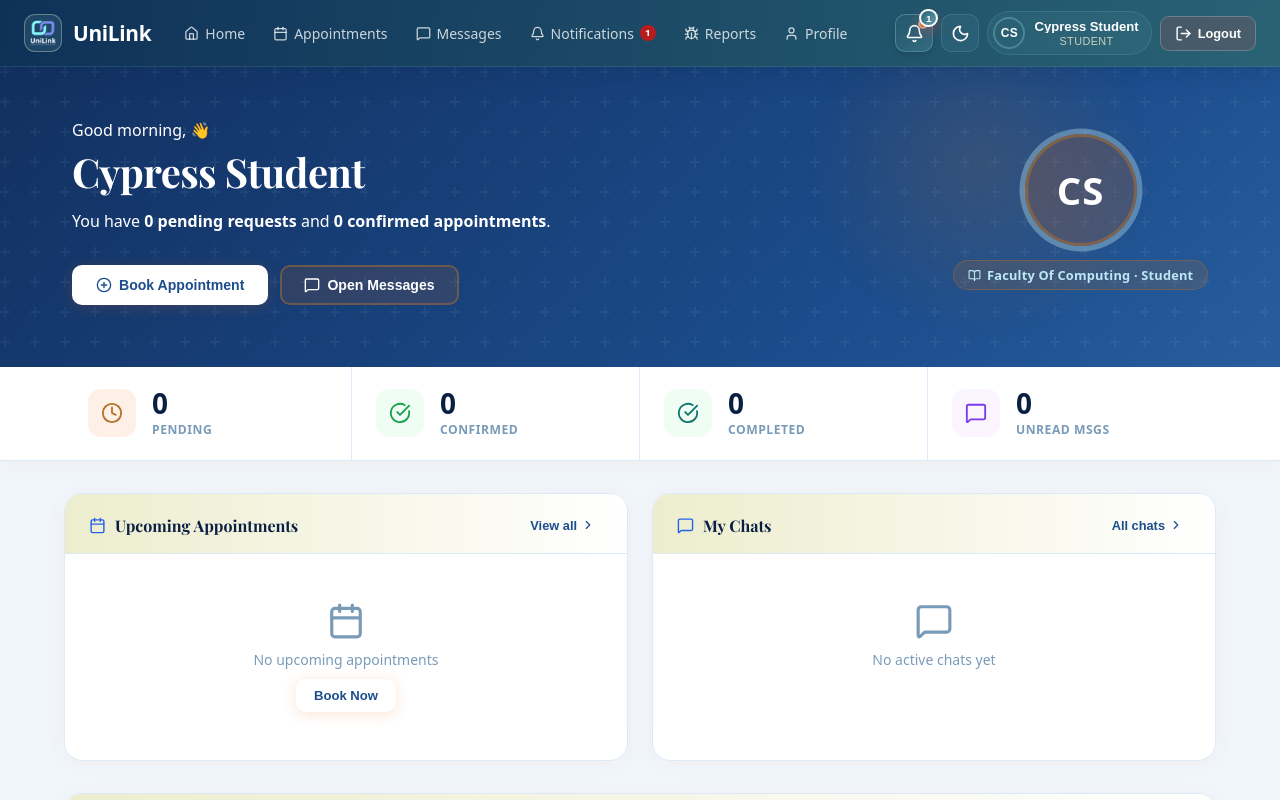
Test: Chat Message › should display chat interface elements
Expected: the heading "My Chats" is shown, [677, 515, 772, 536]
Click the button "All chats".
click(1148, 526)  # box [1104, 514, 1191, 537]
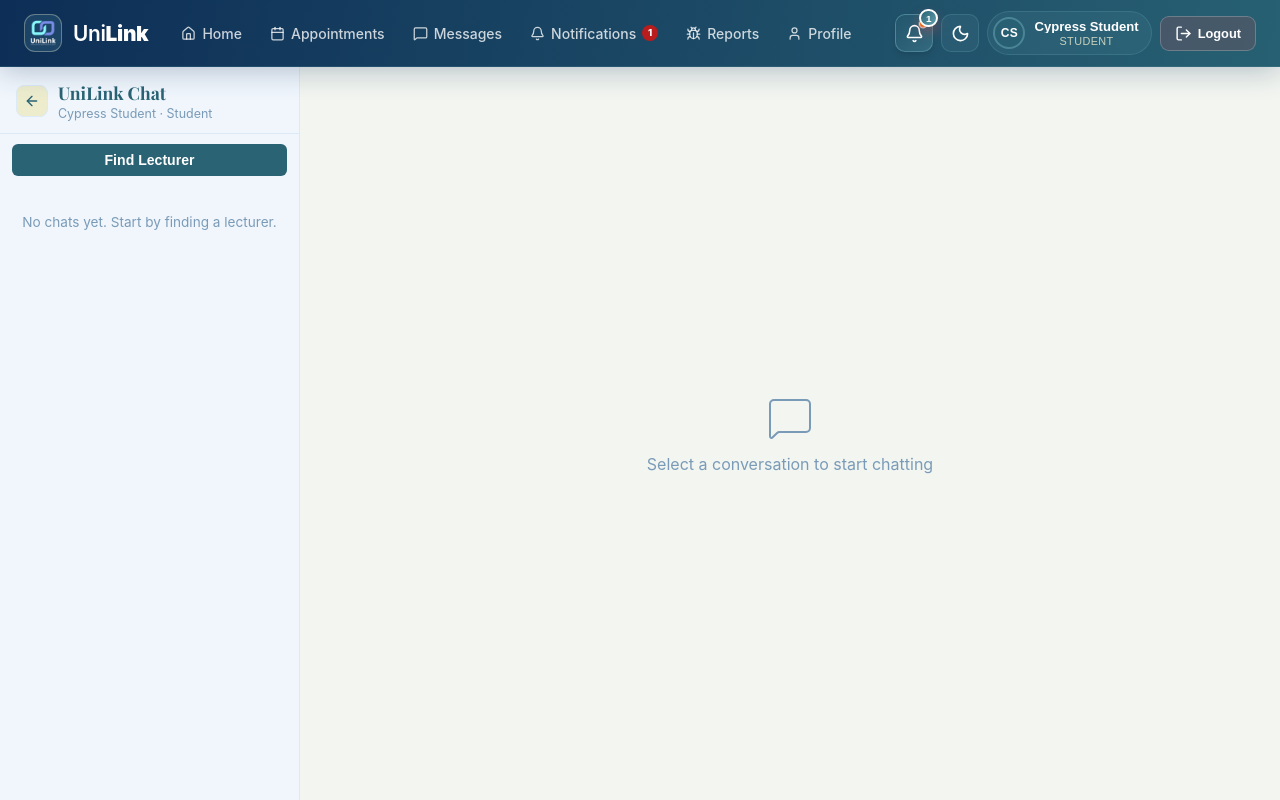
Expected: the button "Find Lecturer" is shown, [12, 144, 287, 176]
Expected: the text "Select a conversation to start chatting" is shown, [647, 454, 933, 474]
